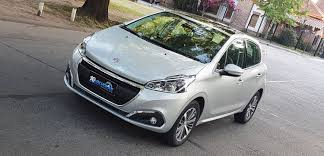car: (64, 12, 274, 145)
